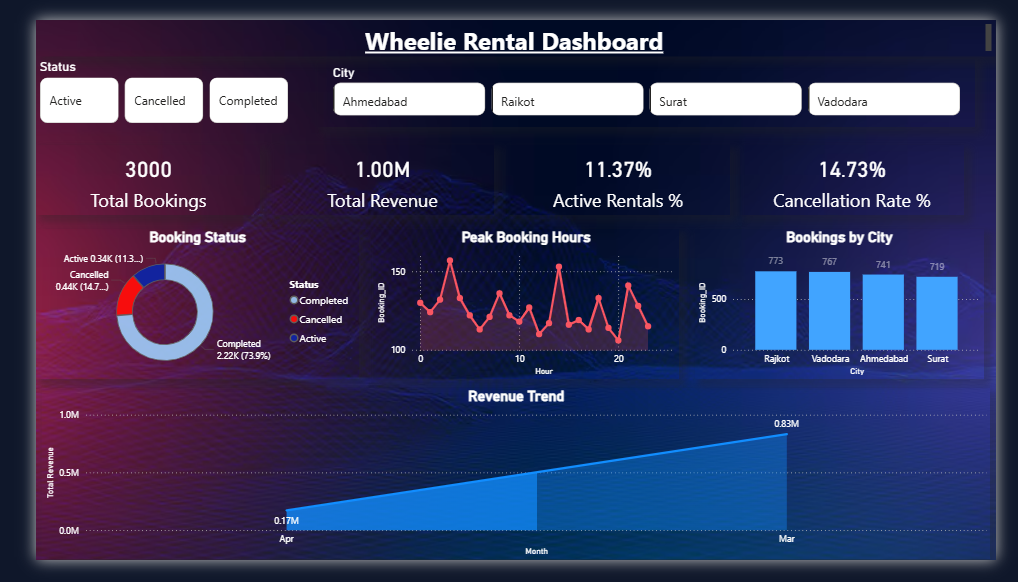

What the dashboard file says about the page in this screenshot:
{"tool":"powerbi","page":{"name":"Page 1","canvas":[1280,720],"ordinal":0},"visuals":[{"type":"textbox","box":[4.8,0,1275.2,49.6],"z":0},{"type":"donutChart","title":"Booking Status","fields":{"Category":["Bookings.Status"],"Y":["CountNonNull(Bookings.Booking_ID)"]},"box":[0,278.4,431.1,200.4],"z":1000},{"type":"lineChart","title":"Peak Booking Hours","fields":{"Y":["CountNonNull(Bookings.Booking_ID)"],"Category":["Bookings.Hour"]},"box":[450.9,278.4,407.2,200.4],"z":2000},{"type":"columnChart","title":"Bookings by City","fields":{"Y":["CountNonNull(Bookings.Booking_ID)"],"Category":["City_Table.City"]},"box":[878.3,278.1,393.6,200.1],"z":3000},{"type":"areaChart","title":"Revenue Trend","fields":{"Category":["Bookings.Month"],"Y":["Bookings.Total Revenue"]},"box":[0,491.2,1272,229.3],"z":4000},{"type":"advancedSlicerVisual","title":"Status:","fields":{"Values":["Bookings.Status"]},"box":[0,61.8,343.2,92.7],"z":5000},{"type":"advancedSlicerVisual","title":"City:","fields":{"Values":["Bookings.City"]},"box":[362,62,910,92],"z":6000},{"type":"shape","box":[4.8,167,316.5,77.9],"z":7000},{"type":"card","fields":{"Values":["Bookings.Total Bookings"]},"box":[0,166.4,299.2,94.4],"z":8000},{"type":"card","fields":{"Values":["Bookings.Total Revenue"]},"box":[312.5,166.4,299.2,94.4],"z":9000},{"type":"card","fields":{"Values":["Bookings.Active Rentals %"]},"box":[625.1,166.4,299.2,94.4],"z":10000},{"type":"card","fields":{"Values":["Bookings.Cancellation Rate %"]},"box":[936.9,165.9,335.1,94.3],"z":11000}]}

Visuals, with their boxes in screenshot pixels (x1, y1, x2, y2), scaled from the page's 1280x720 canvas onto the 1018x582 screenshot:
textbox: rect(4, 0, 1017, 40)
"Booking Status" donutChart: rect(0, 225, 343, 387)
"Peak Booking Hours" lineChart: rect(359, 225, 682, 387)
"Bookings by City" columnChart: rect(699, 225, 1012, 387)
"Revenue Trend" areaChart: rect(0, 397, 1012, 581)
"Status:" advancedSlicerVisual: rect(0, 50, 273, 125)
"City:" advancedSlicerVisual: rect(288, 50, 1012, 124)
shape: rect(4, 135, 256, 198)
card - Bookings.Total Bookings: rect(0, 135, 238, 211)
card - Bookings.Total Revenue: rect(249, 135, 486, 211)
card - Bookings.Active Rentals %: rect(497, 135, 735, 211)
card - Bookings.Cancellation Rate %: rect(745, 134, 1012, 210)
